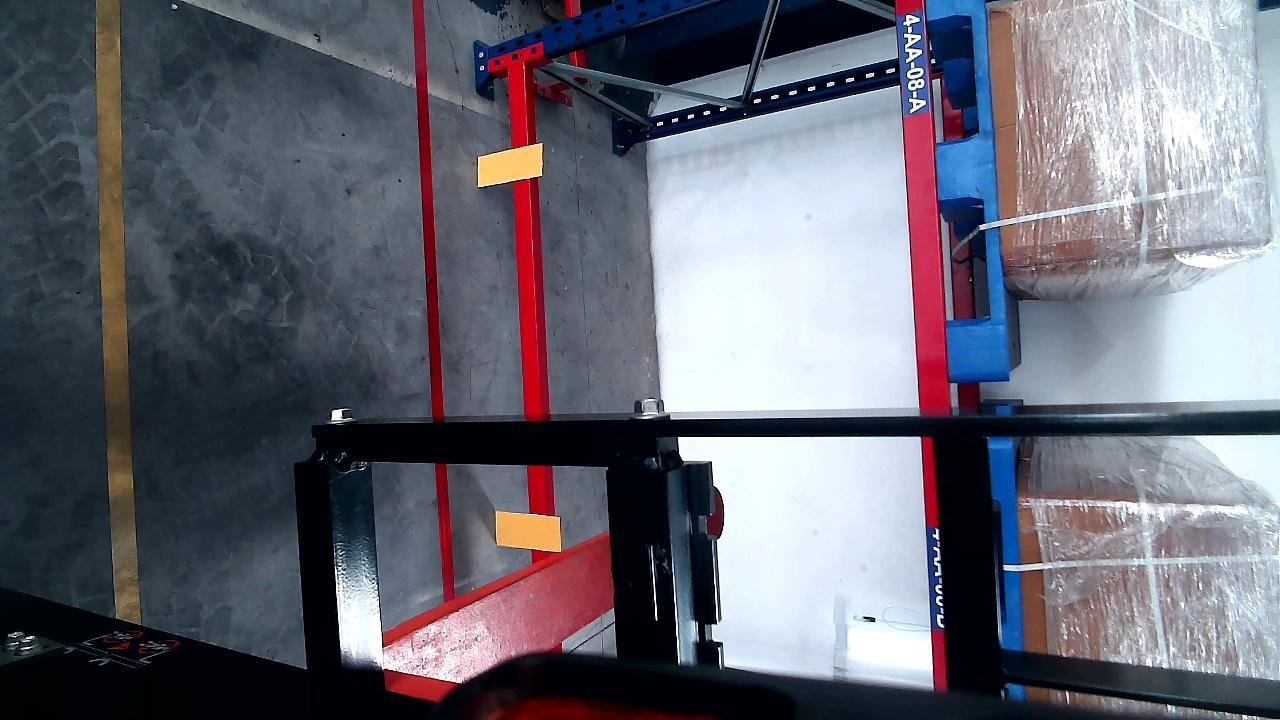red_line: (414, 0, 456, 598)
yellow_line: (94, 0, 140, 626)
